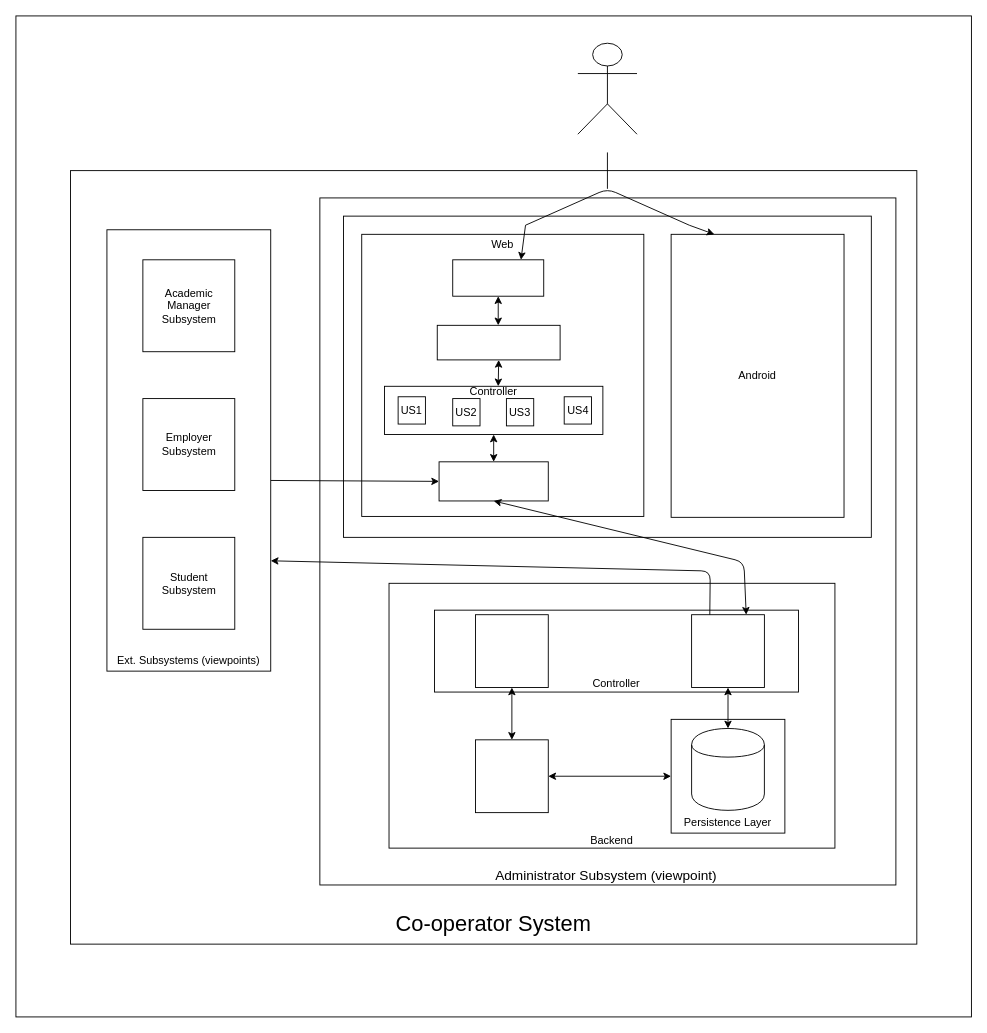
This 987x1033 diagram has some shape labels left out. Each missing label, with the centre of its shape:
Authentification: the point at 498,342
Cooperator Rest Controller: the point at 727,651
Cooperator Service Controller: the point at 511,651
Dbms: postgreSQL: the point at 727,769
Model: the point at 511,776
Rest Service call interface: the point at 493,481
User (Admin): the point at 607,88
User Interface: the point at 498,277
